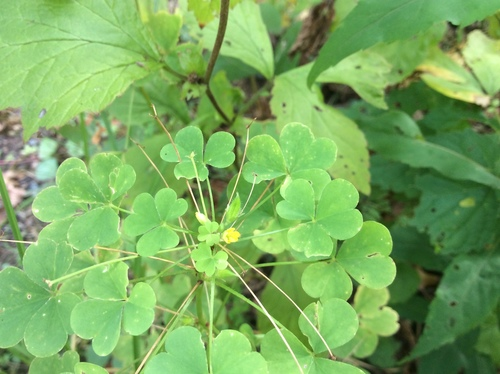oxalis: (48, 123, 405, 374)
